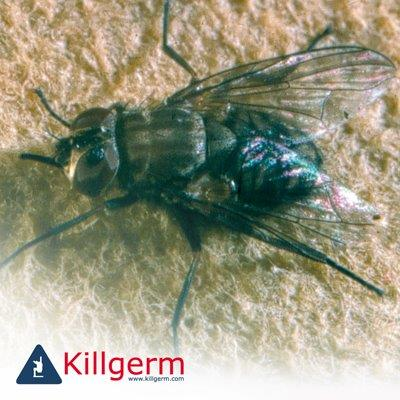green bottles flies: (23, 52, 400, 307)
